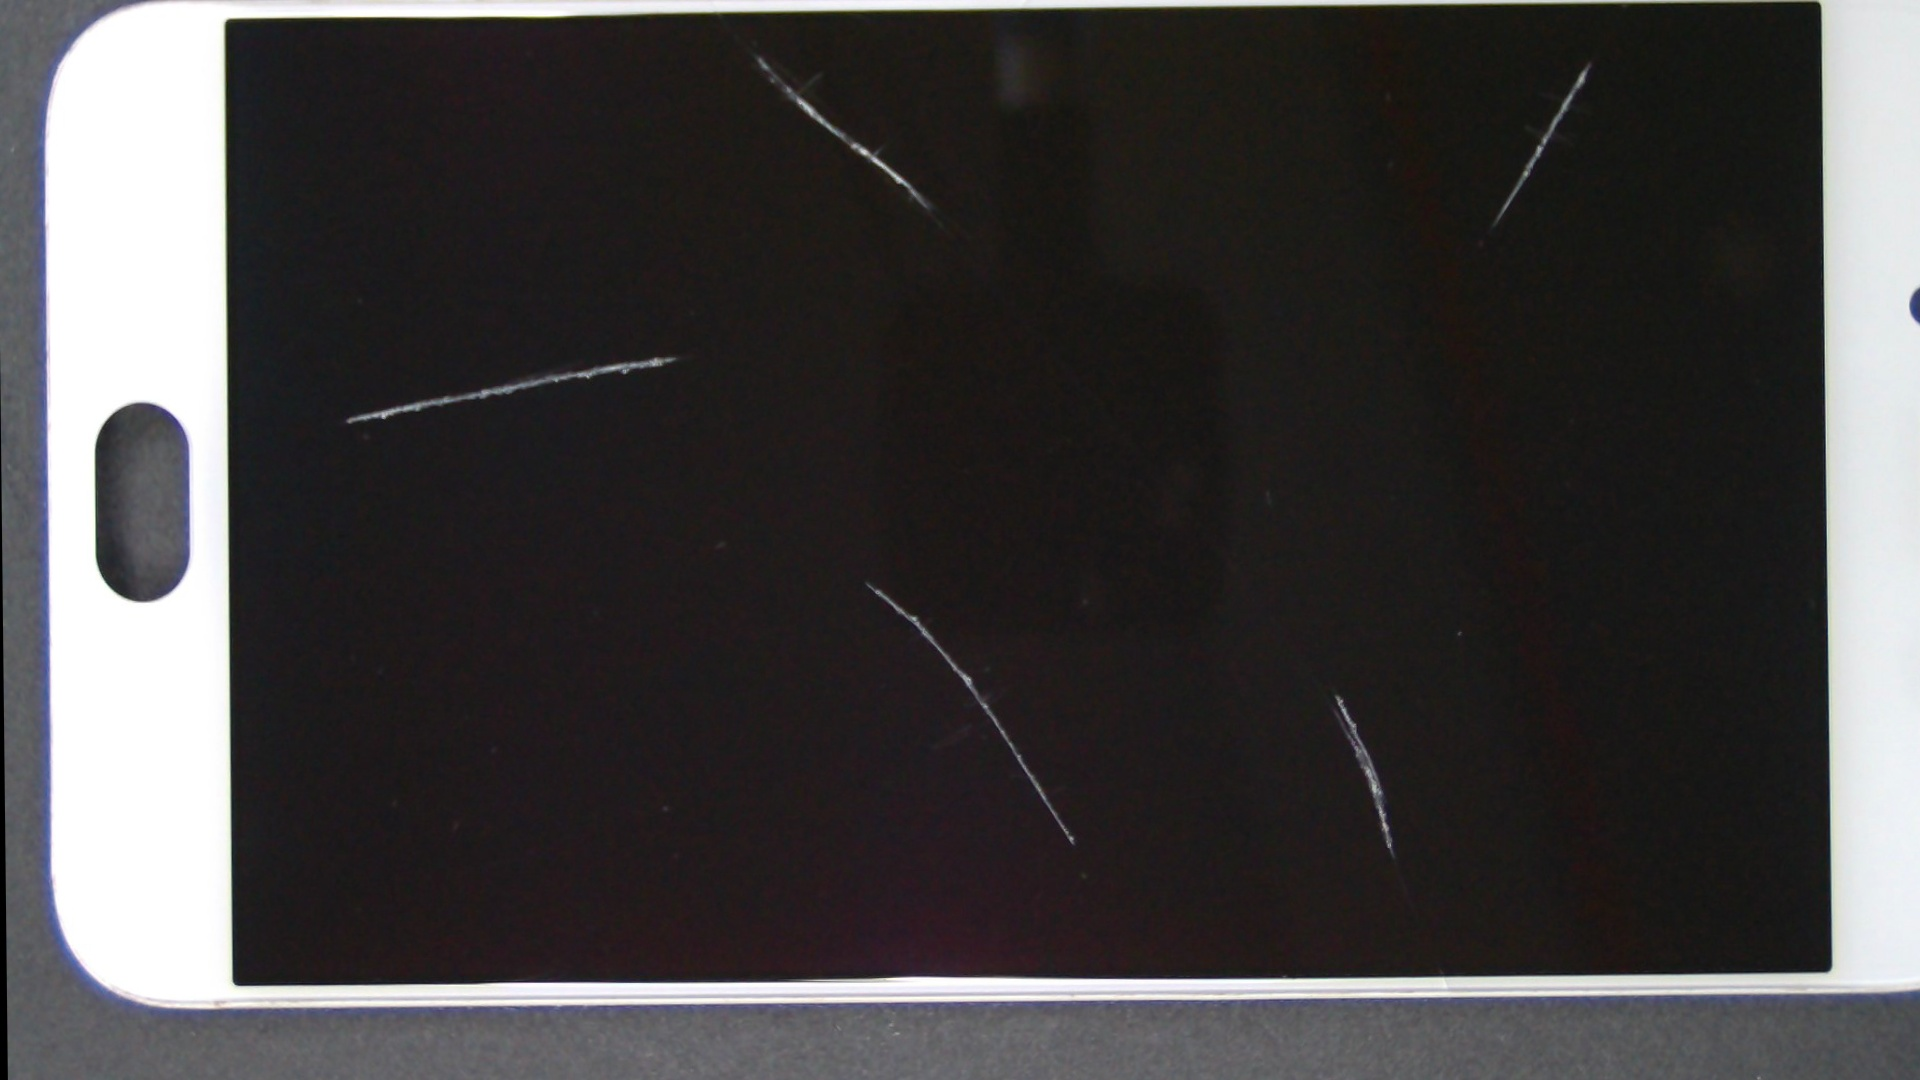oil: (666, 287, 1920, 1080), (431, 236, 1302, 927), (326, 127, 985, 587), (794, 0, 1920, 153), (376, 0, 1135, 131)
